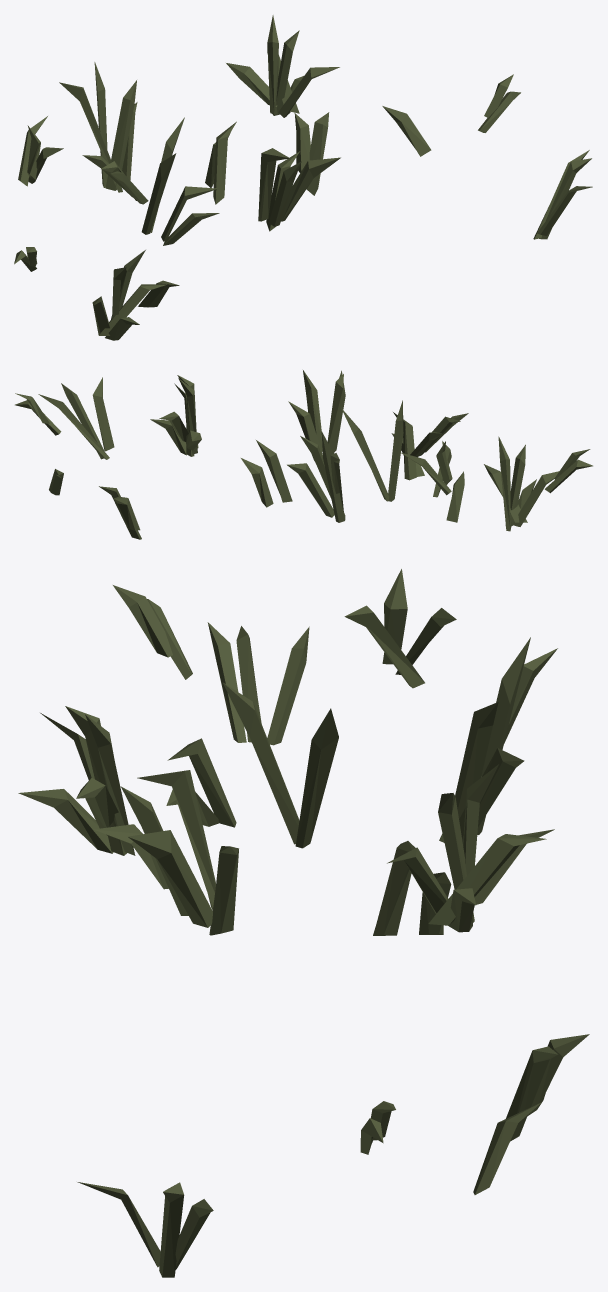
Rendered from apoc_SM_Prop_Car_Wrecked_Overgrowth_01.gltf.
3 renders of one model, top to bottom at view 1: azimuth 30°, elevation 25°; view 2: azimuth 150°, elevation 25°; view 3: azimuth 270°, elevation 25°, orthographic. The views are drawn at different scales.
Parts seen in each view (by area): view 1: SM_Prop_Car_Wrecked_Overgrowth_01; view 2: SM_Prop_Car_Wrecked_Overgrowth_01; view 3: SM_Prop_Car_Wrecked_Overgrowth_01.
Boxes of the visible parts, bbox=[...] form: SM_Prop_Car_Wrecked_Overgrowth_01: bbox=[14, 15, 592, 340]; SM_Prop_Car_Wrecked_Overgrowth_01: bbox=[15, 370, 592, 539]; SM_Prop_Car_Wrecked_Overgrowth_01: bbox=[18, 569, 589, 1277].
Size of the model in its own units: 5.24 by 1.68 by 2.42.
Materials: 1 (1 with a texture image).
